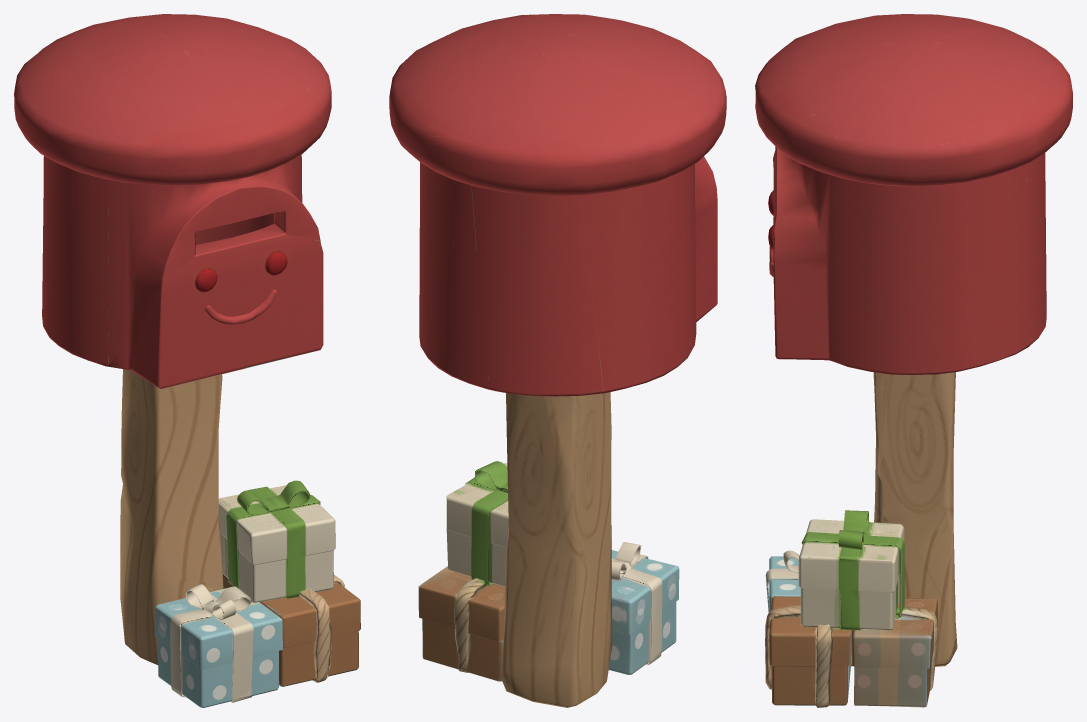
The model's file is mailbox.raw.glb.
The picture shows the model from 3 angles, left to right: view 1: azimuth 30°, elevation 25°; view 2: azimuth 150°, elevation 25°; view 3: azimuth 270°, elevation 25°; orthographic projection. The views are drawn at different scales.
Bounding box in the file's own units: 0.4546 × 0.9512 × 0.4502.
1 material, 1 textured.
